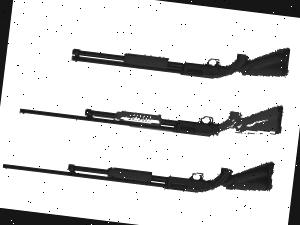shotgun: (0, 127, 277, 208), (15, 71, 288, 149), (49, 16, 299, 93)
